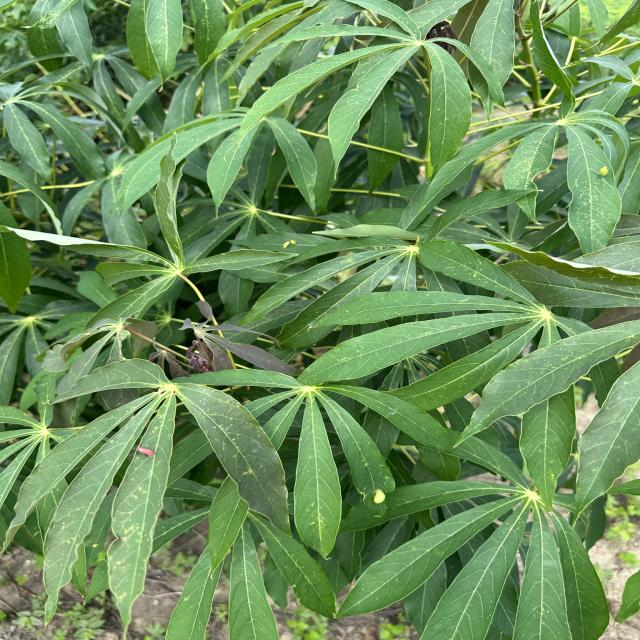Mosca: (365, 480, 395, 515), (126, 435, 161, 464), (609, 338, 638, 367), (272, 234, 301, 253), (593, 162, 615, 182)
